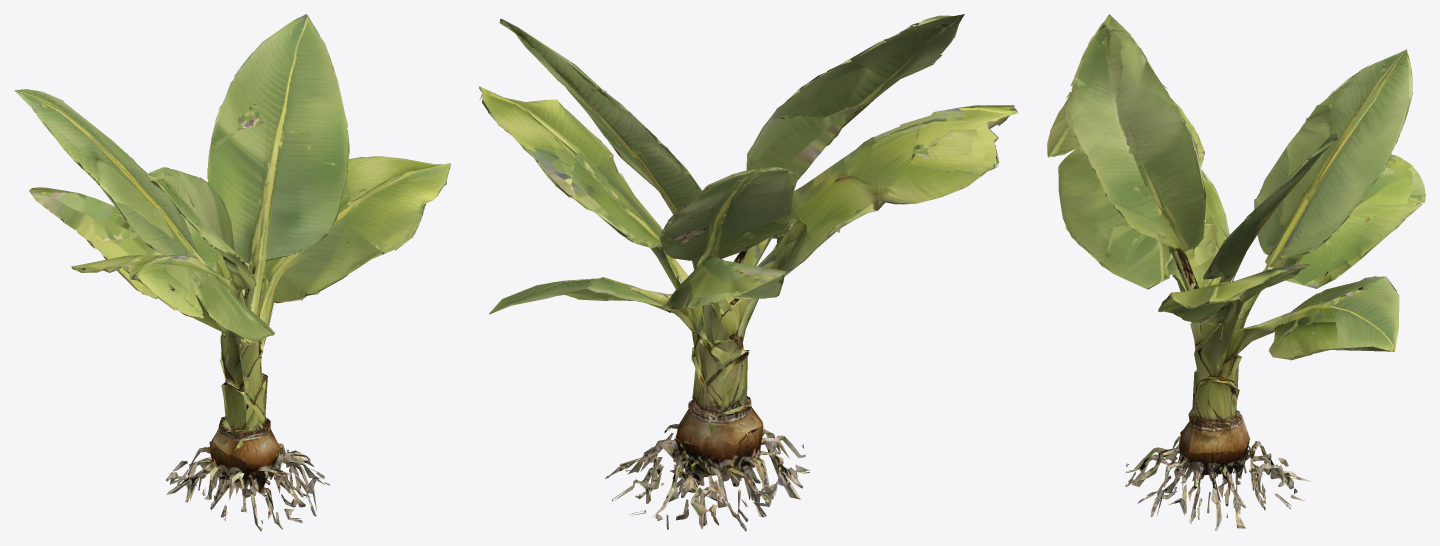
Rendered from turtle-prop-banana-float.glb.
The picture shows the model from 3 angles, left to right: view 1: azimuth 30°, elevation 25°; view 2: azimuth 150°, elevation 25°; view 3: azimuth 270°, elevation 25°; orthographic projection. The views are drawn at different scales.
Parts seen in each view (by area): view 1: Mesh_0; view 2: Mesh_0; view 3: Mesh_0.
Part boxes in pixels (left/top/right/bottom): Mesh_0: left=14, top=14, right=450, bottom=531; Mesh_0: left=479, top=14, right=1018, bottom=531; Mesh_0: left=1047, top=14, right=1425, bottom=530.
Size of the model in its own units: 0.14 by 0.1377 by 0.1119.
1 material, 1 textured.
